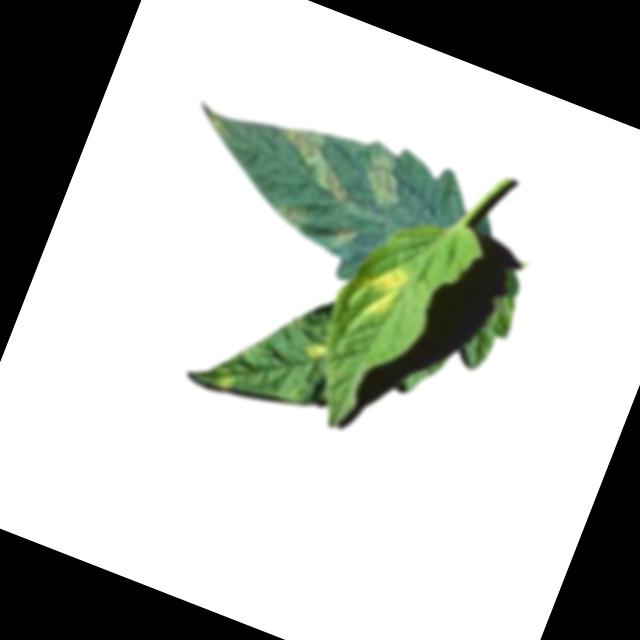Leaf_Mold: (259, 117, 369, 208), (356, 144, 415, 212), (362, 263, 413, 326), (268, 195, 313, 237), (332, 220, 362, 249), (302, 338, 332, 363)
